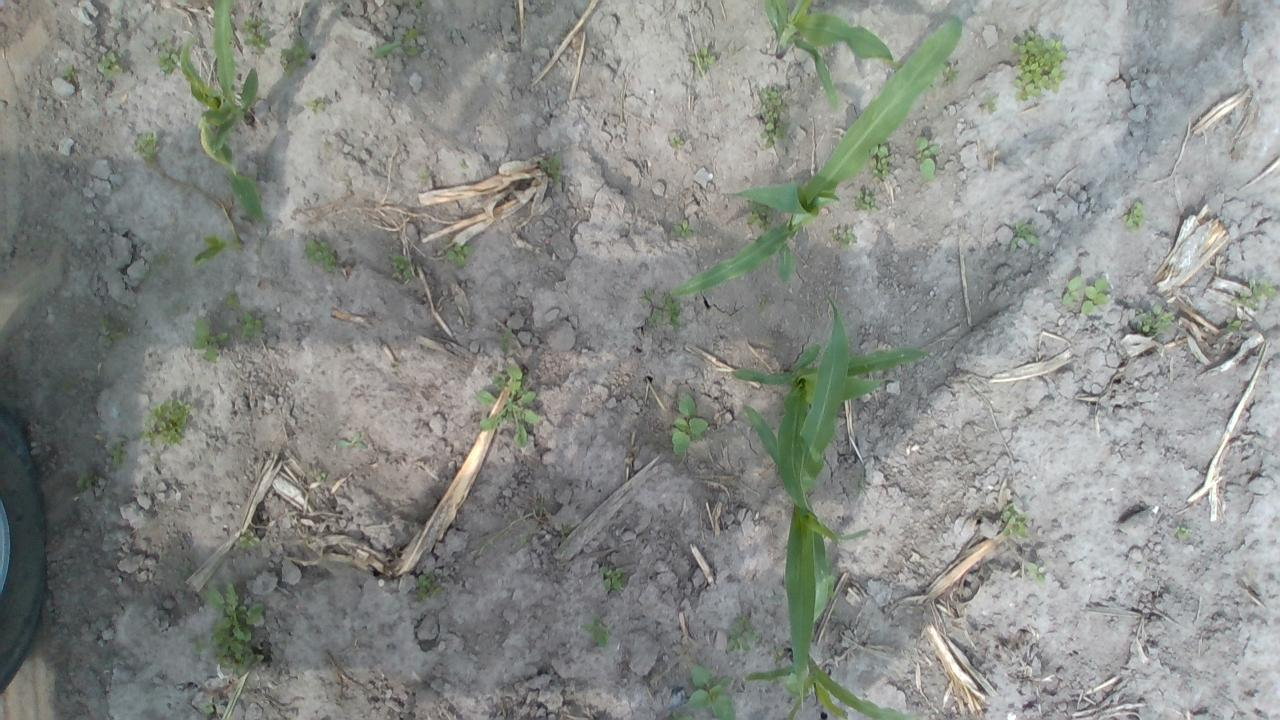Maize: (670, 15, 961, 294), (736, 404, 872, 710), (730, 296, 929, 485), (180, 0, 264, 217), (762, 0, 896, 113), (745, 644, 914, 720), (192, 236, 244, 266)
Weeds: (477, 363, 540, 446), (202, 581, 264, 664), (1012, 26, 1066, 100), (686, 663, 736, 720), (670, 395, 709, 456), (756, 84, 788, 149), (147, 400, 190, 444), (191, 317, 229, 361), (722, 612, 756, 654), (304, 231, 336, 270), (280, 38, 314, 73), (242, 16, 272, 52), (1080, 276, 1110, 312), (1002, 502, 1032, 537), (1142, 302, 1173, 332), (584, 615, 610, 649), (135, 130, 160, 164), (391, 252, 416, 284), (869, 143, 890, 181), (917, 138, 938, 176), (402, 26, 428, 55), (1124, 199, 1146, 229), (444, 243, 470, 267), (238, 311, 262, 337), (688, 45, 715, 68), (979, 90, 1003, 115), (1250, 280, 1279, 300), (1013, 222, 1036, 247), (744, 201, 769, 224), (830, 224, 856, 246), (1062, 276, 1080, 307), (417, 574, 440, 598), (376, 40, 404, 58), (664, 296, 682, 324), (107, 439, 126, 464), (1230, 287, 1252, 308), (604, 570, 625, 592), (940, 60, 959, 84), (99, 52, 119, 74), (239, 530, 260, 549), (158, 50, 174, 74), (1028, 565, 1046, 586), (855, 196, 876, 212), (676, 220, 694, 238), (76, 472, 95, 489), (106, 316, 122, 336), (497, 328, 511, 350), (1175, 524, 1193, 540), (668, 136, 686, 150), (1226, 316, 1242, 330), (546, 158, 560, 174), (226, 295, 240, 310), (65, 66, 78, 82), (152, 255, 170, 266), (308, 96, 323, 106), (642, 287, 652, 301), (652, 310, 661, 320)
